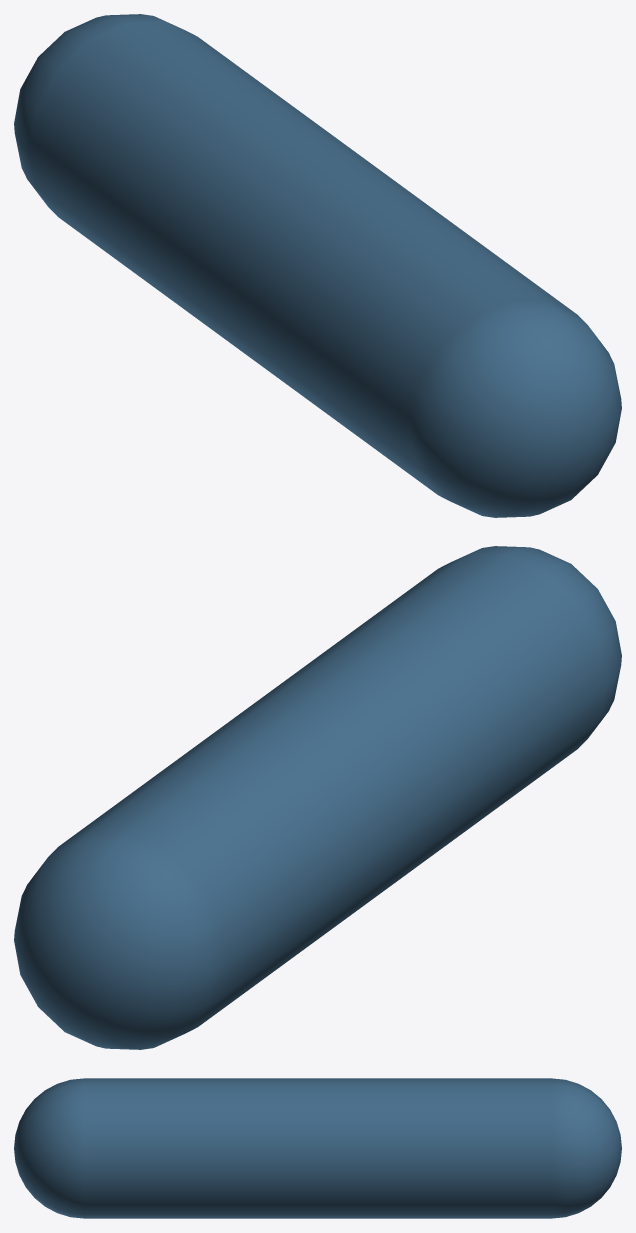
The model's file is body.obj.
3 renders of one model, top to bottom at view 1: azimuth 30°, elevation 25°; view 2: azimuth 150°, elevation 25°; view 3: azimuth 270°, elevation 25°, orthographic. The views are drawn at different scales.
Size of the model in its own units: 0.036 by 0.036 by 0.156.
Materials: 1 (1 with a texture image).
